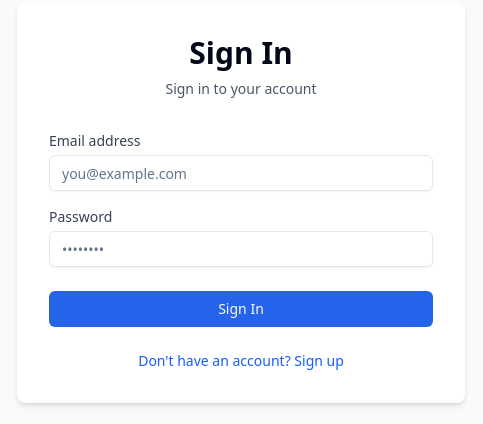
Test: LoginForm › switches to sign up mode
The image size is (483, 424).
Click the button "Don't have an account? Sign up" at [241, 361], box [138, 351, 344, 371]
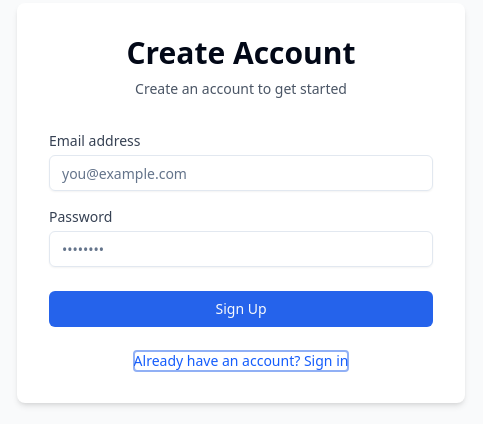
Expected: the heading "Create Account" is shown, [126, 32, 356, 73]
Expected: the text "Create an account to get started" is shown, [135, 79, 347, 98]
Expected: the button "Sign Up" is shown, [49, 291, 433, 327]
